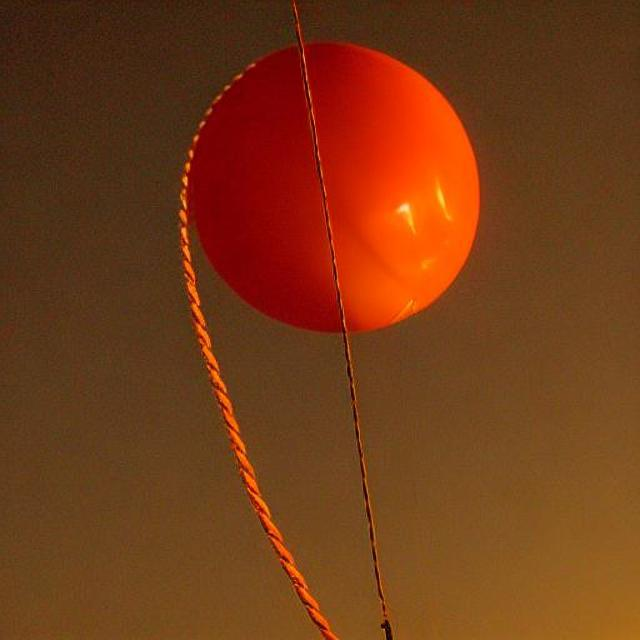balloon: (167, 15, 481, 386)
